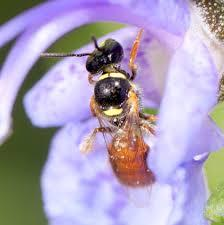Allodapula: (38, 25, 171, 194)
